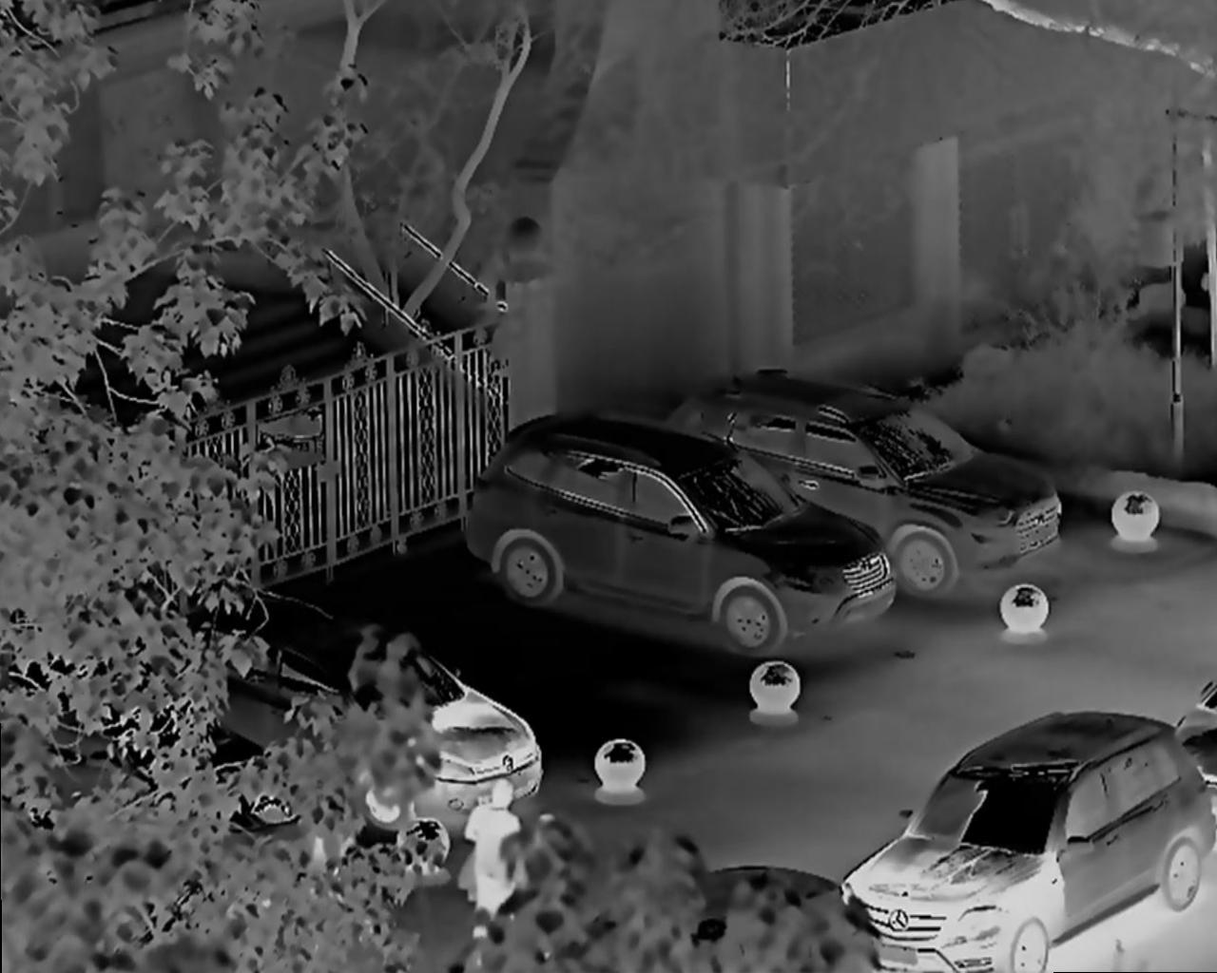person: (468, 776, 527, 898)
